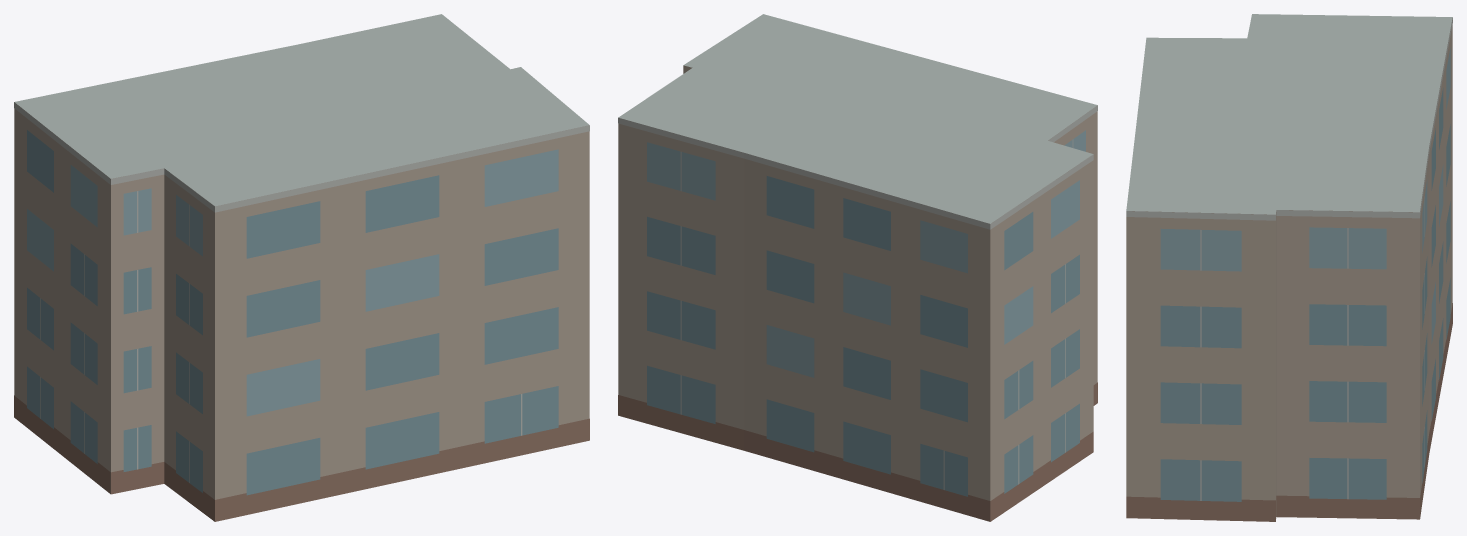
Rendered from survey-upis-32945714.glb.
The picture shows the model from 3 angles, left to right: view 1: azimuth 30°, elevation 25°; view 2: azimuth 150°, elevation 25°; view 3: azimuth 270°, elevation 25°; orthographic projection. The views are drawn at different scales.
Visible parts, largest first — view 1: survey-upis-32945714.tmp; view 2: survey-upis-32945714.tmp; view 3: survey-upis-32945714.tmp.
Part boxes in pixels (box(x1,y1,x2,y2)): survey-upis-32945714.tmp: box(14, 14, 589, 521); survey-upis-32945714.tmp: box(618, 14, 1097, 521); survey-upis-32945714.tmp: box(1126, 14, 1452, 521).
Size of the model in its own units: 17.38 by 12.4 by 11.95.
